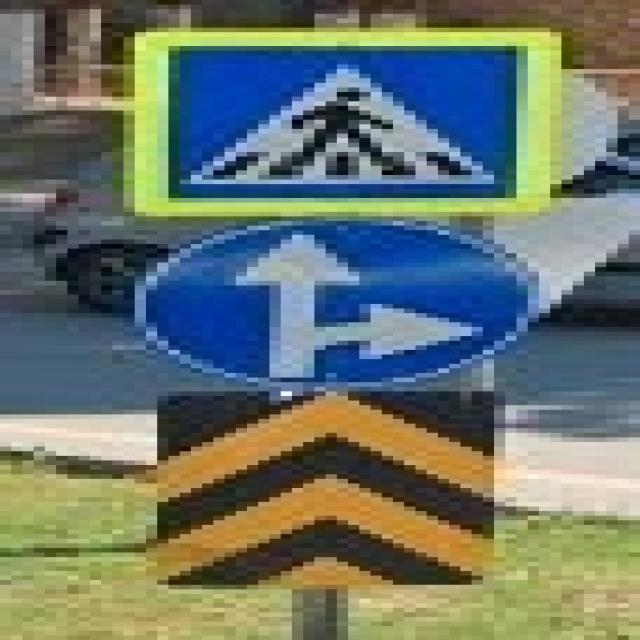Straight or Right: (136, 211, 540, 390)
